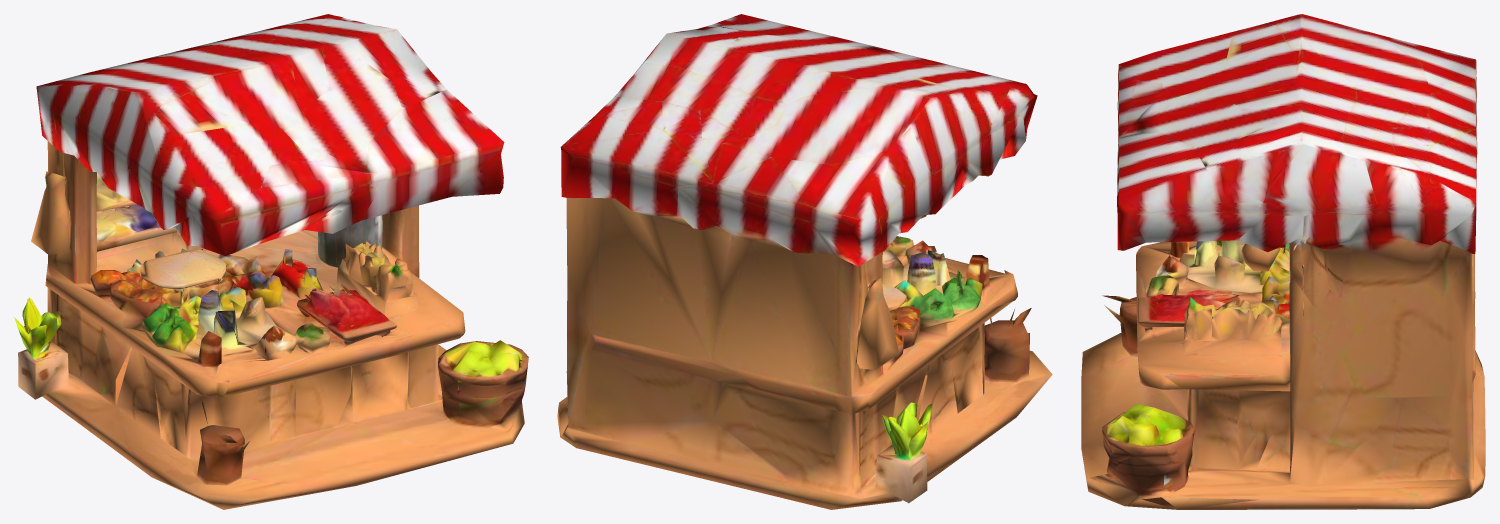
File: prop-stall.glb
The picture shows the model from 3 angles, left to right: view 1: azimuth 30°, elevation 25°; view 2: azimuth 150°, elevation 25°; view 3: azimuth 270°, elevation 25°; orthographic projection.
Size of the model in its own units: 1.9 by 1.67 by 1.77.
1 material, 1 textured.
